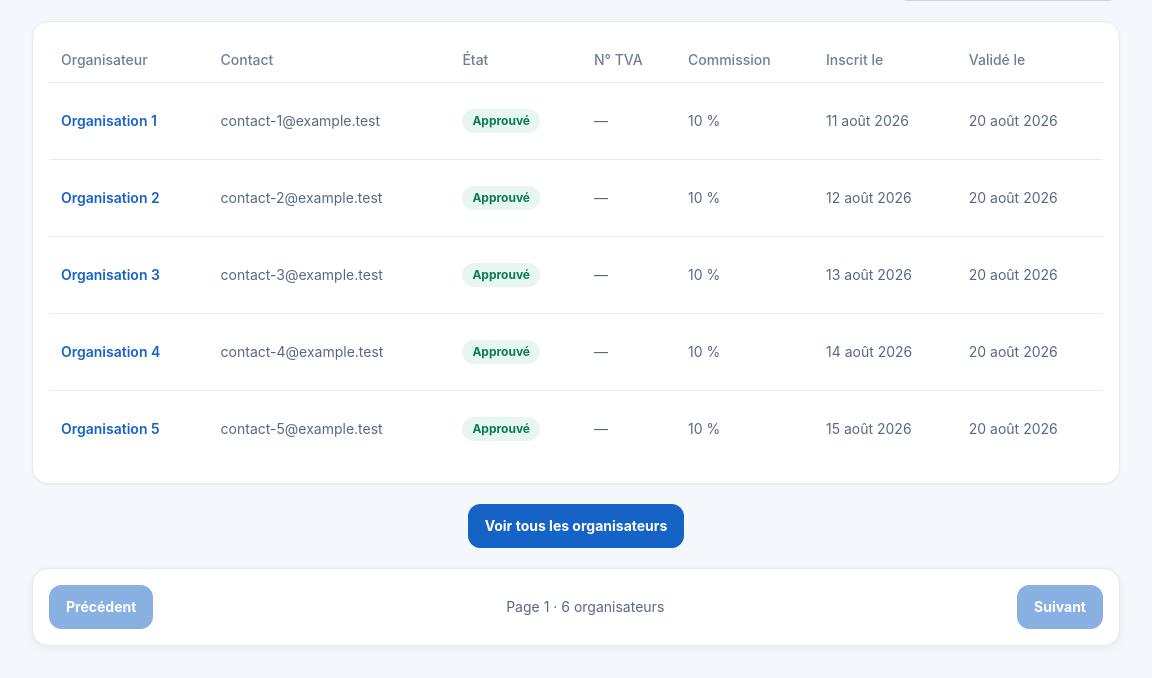
it: AdminOrganizersPage - intégration TanStack Query › affiche cinq organisateurs puis Voir tous uniquement quand le total dépasse cinq
(page scrolled)
Expected: the button "Organisation 1" is shown, [61,99,157,143]
Expected: the button "Organisation 5" is shown, [61,407,160,451]
Click the button "Voir tous les organisateurs" at (576, 526), box [468,504,684,548]
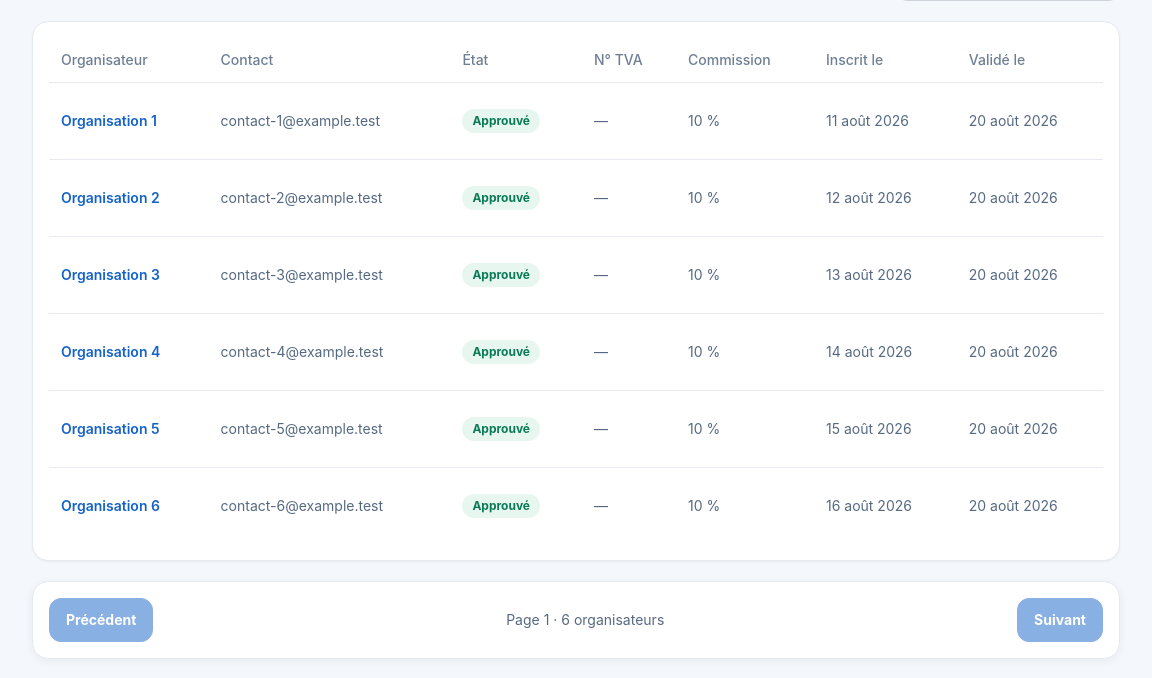
Expected: the button "Organisation 6" is shown, [61,484,160,528]
Expected: the button "Voir tous les organisateurs" is gone
